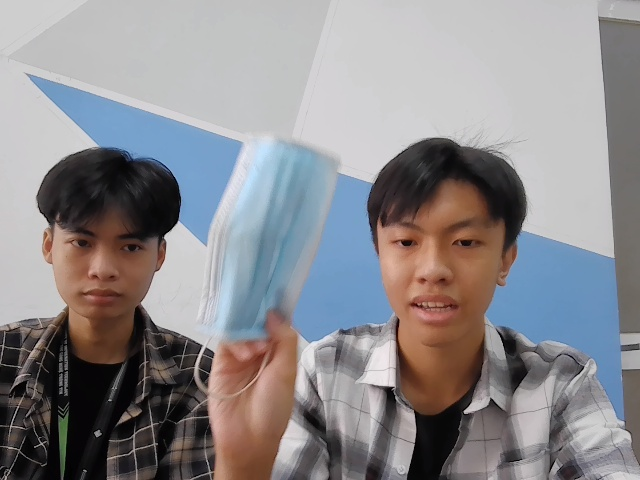human: (363, 137, 528, 345), (35, 141, 182, 329)
mask: (197, 136, 339, 347)
